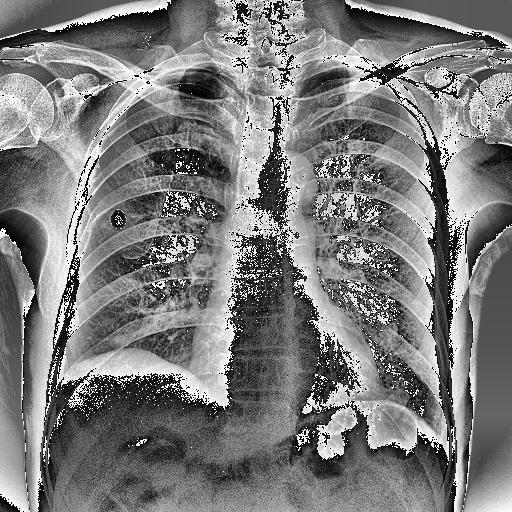10- Pleural effusion: (41, 340, 108, 400)
11- Pleural thickening: (42, 328, 96, 390)
2- Calcification: (102, 198, 138, 242), (101, 204, 134, 232), (417, 236, 436, 252), (422, 236, 438, 254)
8- Nodule-Mass: (82, 332, 96, 342)
9- Other lesion: (103, 204, 132, 232)
